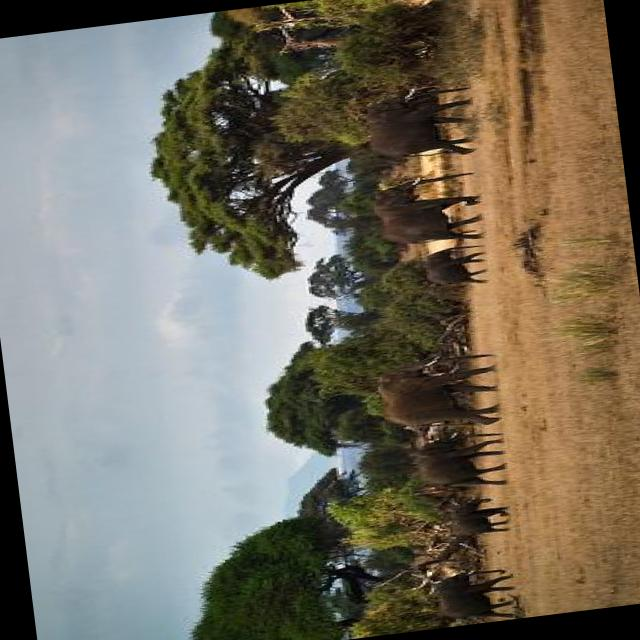elephant: (374, 348, 504, 437), (359, 79, 478, 165), (366, 168, 485, 250), (414, 424, 511, 495), (432, 561, 522, 626), (424, 240, 490, 288), (442, 494, 514, 536)
